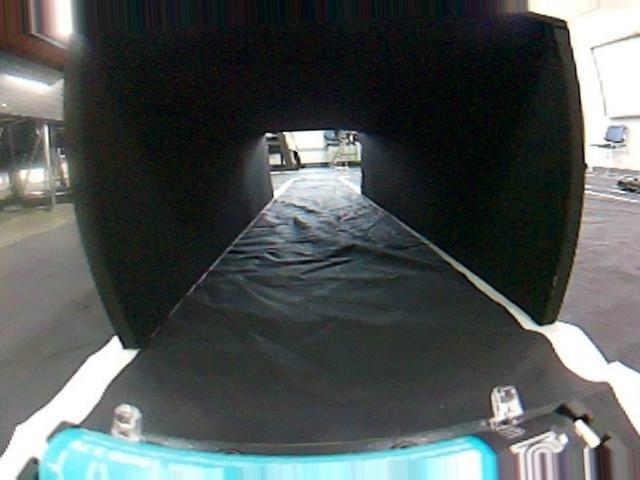straight: (3, 231, 640, 479)
